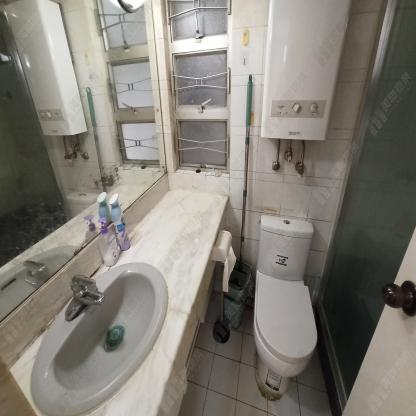Toilet: (245, 207, 321, 405)
Toilet Sink: (9, 224, 213, 416)
Water Heater: (258, 0, 351, 142)
